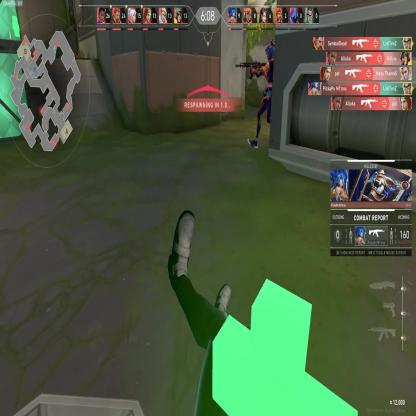enemy: (247, 37, 272, 152)
